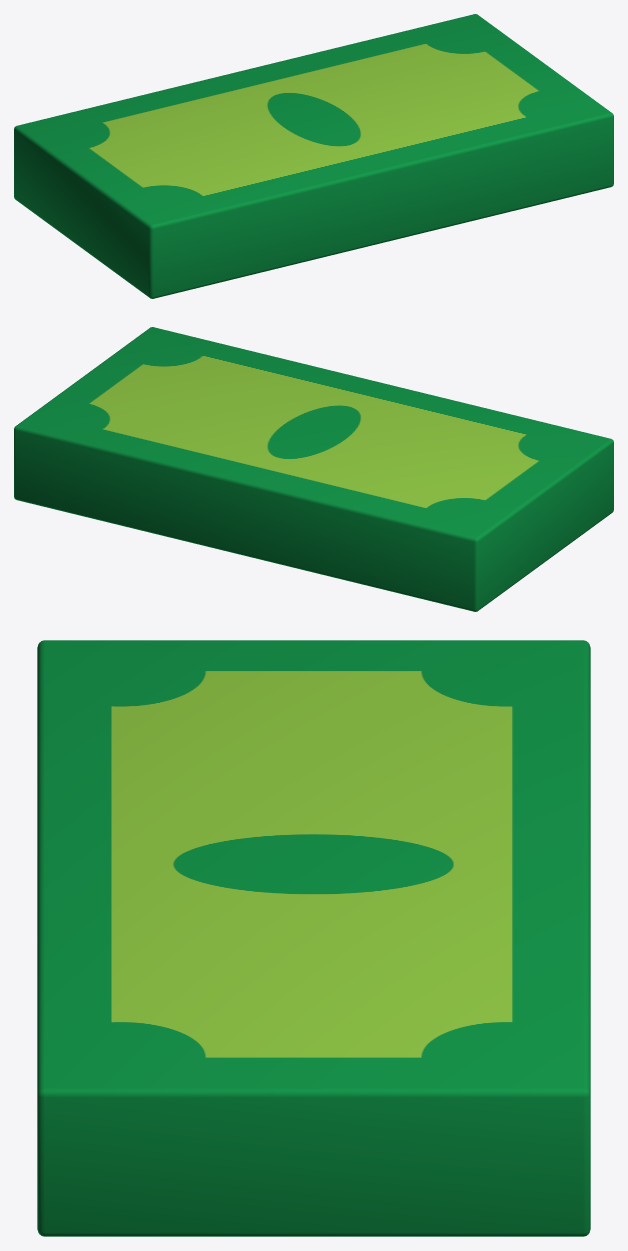
File: Money_Stack.fbx
The picture shows the model from 3 angles, top to bottom: view 1: azimuth 30°, elevation 25°; view 2: azimuth 150°, elevation 25°; view 3: azimuth 270°, elevation 25°; orthographic projection. The views are drawn at different scales.
Visible parts, largest first — view 1: Money_Stack; view 2: Money_Stack; view 3: Money_Stack.
Boxes of the visible parts, left/top/right/bottom form: Money_Stack: left=14, top=14, right=613, bottom=298; Money_Stack: left=14, top=327, right=613, bottom=611; Money_Stack: left=37, top=640, right=590, bottom=1236.
Size of the model in its own units: 75.35 by 11.49 by 38.85.
